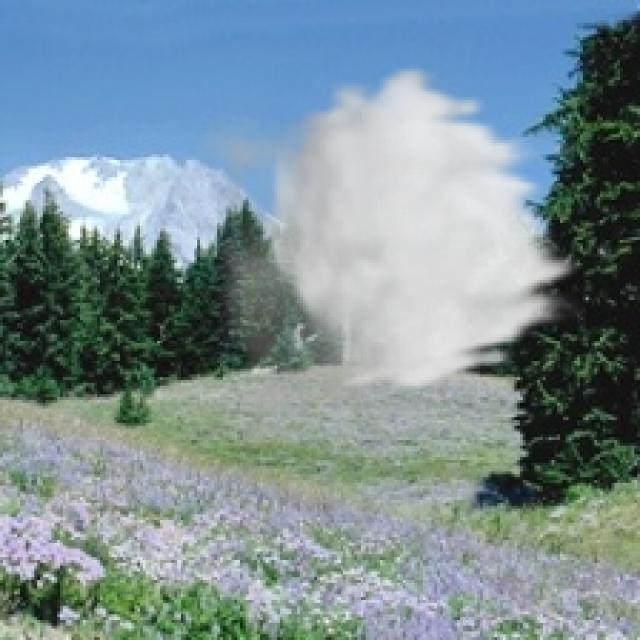smoke: (188, 63, 586, 463)
